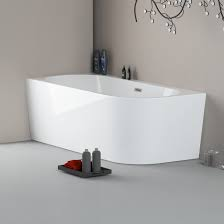bathub: (22, 63, 213, 181)
